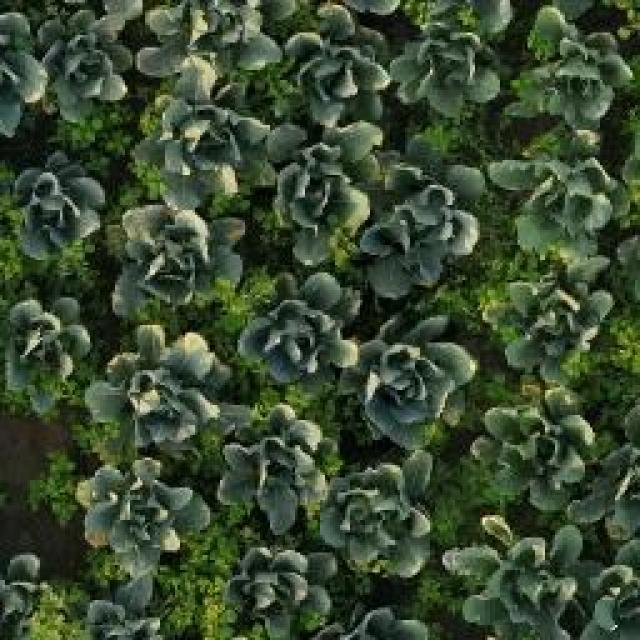cabbage: (85, 320, 222, 446), (350, 316, 477, 450), (74, 452, 214, 566), (321, 446, 437, 582), (142, 87, 285, 197), (216, 403, 335, 535), (109, 198, 248, 309), (492, 143, 618, 264), (231, 268, 362, 383), (358, 182, 482, 302), (132, 0, 282, 95), (267, 138, 376, 268), (519, 7, 638, 126), (275, 7, 387, 125), (30, 0, 138, 115), (390, 25, 512, 122), (218, 542, 334, 640), (8, 148, 108, 259), (2, 294, 92, 414), (471, 531, 580, 630), (488, 395, 586, 488), (512, 276, 610, 365)
